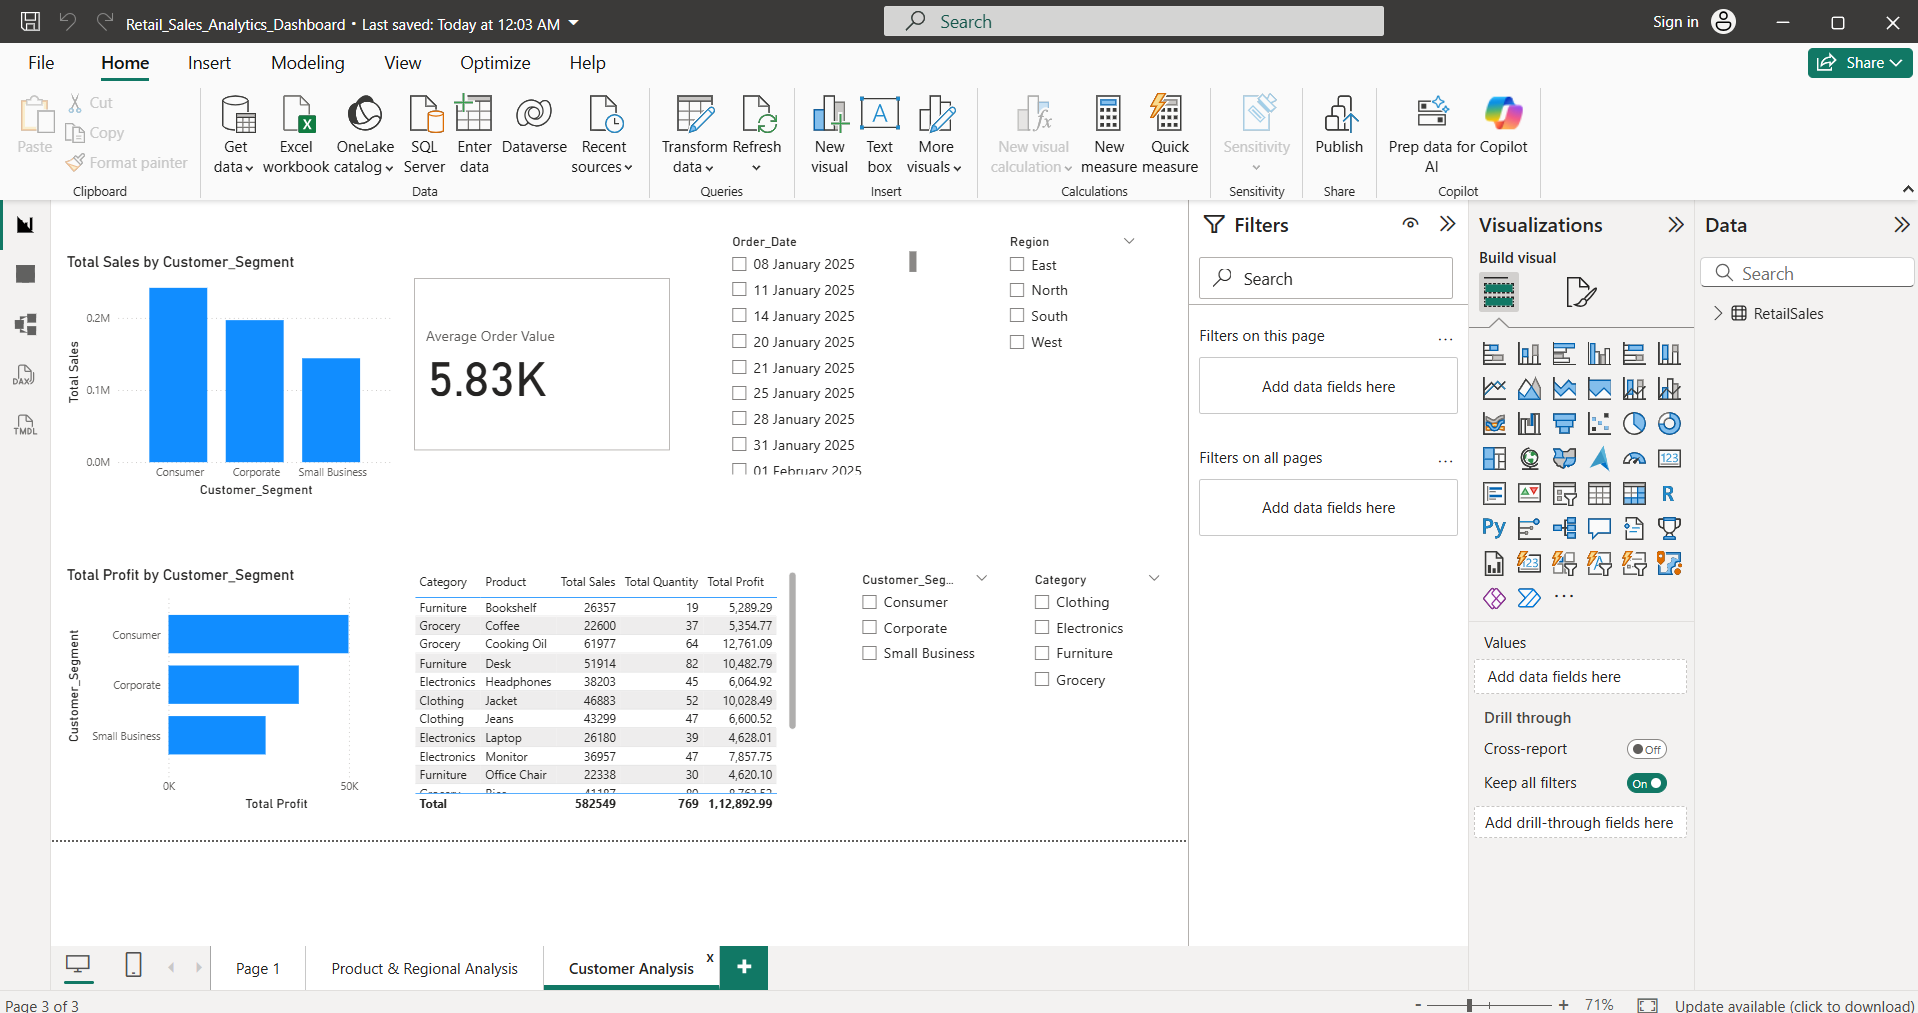

The dashboard page shown, as its layout file describes it:
{"tool":"powerbi","page":{"name":"Customer Analysis","canvas":[1280,720],"ordinal":2},"visuals":[{"type":"clusteredColumnChart","fields":{"Category":["RetailSales.Customer_Segment"],"Y":["RetailSales.Total Sales"]},"box":[12.7,59.1,378.5,280],"z":0},{"type":"clusteredBarChart","fields":{"Category":["RetailSales.Customer_Segment"],"Y":["RetailSales.Total Profit"]},"box":[12.7,412.2,378.5,280],"z":1},{"type":"cardVisual","fields":{"Data":["RetailSales.Average Order Value"]},"box":[403.8,83,298.3,204],"z":2},{"type":"tableEx","fields":{"Values":["RetailSales.Category","RetailSales.Product","RetailSales.Total Sales","RetailSales.Total Quantity","RetailSales.Total Profit"]},"box":[403.8,413.6,440.4,280],"z":3},{"type":"slicer","fields":{"Values":["RetailSales.Order_Date"]},"box":[754.1,33.8,225.1,280],"z":4},{"type":"slicer","fields":{"Values":["RetailSales.Region"]},"box":[1066.4,33.8,166,280],"z":5},{"type":"slicer","fields":{"Values":["RetailSales.Category"]},"box":[1094.6,413.6,166,280],"z":6},{"type":"slicer","fields":{"Values":["RetailSales.Customer_Segment"]},"box":[900.4,413.6,166,280],"z":7}]}

Visuals, with their boxes on the page's 1280x720 design canvas (x1, y1, x2, y2). These are canvas units, not pixel positions in the 1918x1013 screenshot, which may show the page scaled, cropped or inside an application window:
clusteredColumnChart - RetailSales.Customer_Segment x RetailSales.Total Sales: x1=13 y1=59 x2=391 y2=339
clusteredBarChart - RetailSales.Customer_Segment x RetailSales.Total Profit: x1=13 y1=412 x2=391 y2=692
cardVisual - RetailSales.Average Order Value: x1=404 y1=83 x2=702 y2=287
tableEx - RetailSales.Category x RetailSales.Product: x1=404 y1=414 x2=844 y2=694
slicer - RetailSales.Order_Date: x1=754 y1=34 x2=979 y2=314
slicer - RetailSales.Region: x1=1066 y1=34 x2=1232 y2=314
slicer - RetailSales.Category: x1=1095 y1=414 x2=1261 y2=694
slicer - RetailSales.Customer_Segment: x1=900 y1=414 x2=1066 y2=694
